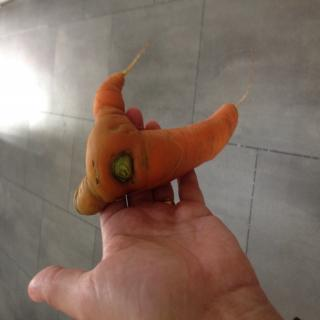Carrot: (67, 61, 252, 220)
